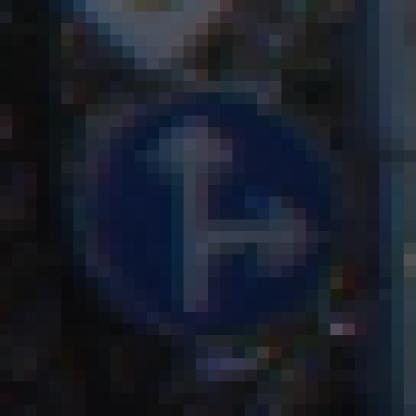Straight or Right: (62, 59, 356, 359)
